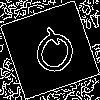Q: (25, 25, 82, 86)
